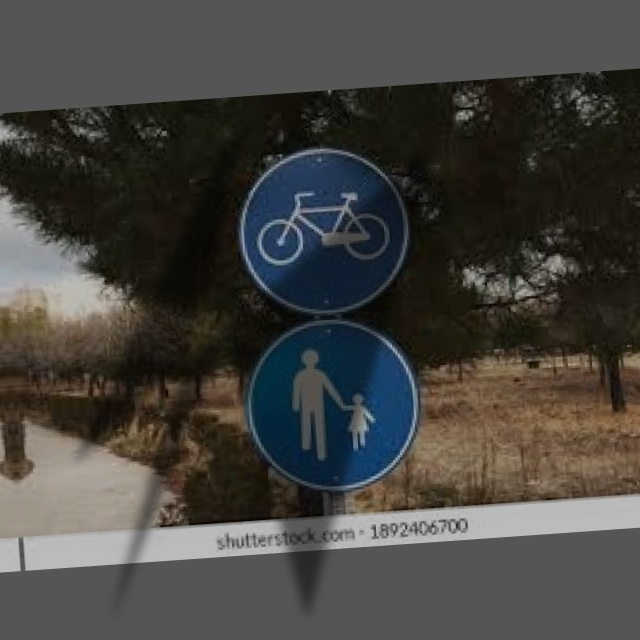Compulsory_Cycle_Track: (233, 143, 415, 316)
